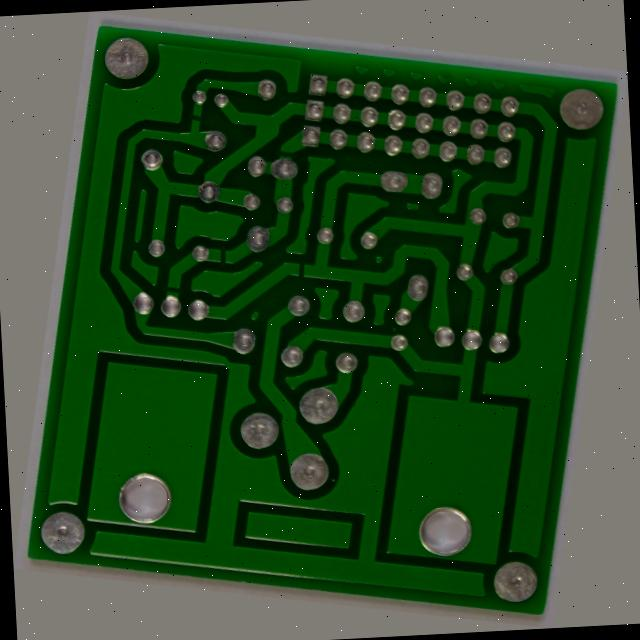open_circuit: (276, 254, 297, 284), (182, 254, 203, 282), (117, 109, 144, 129), (229, 131, 256, 149), (127, 306, 154, 322)
